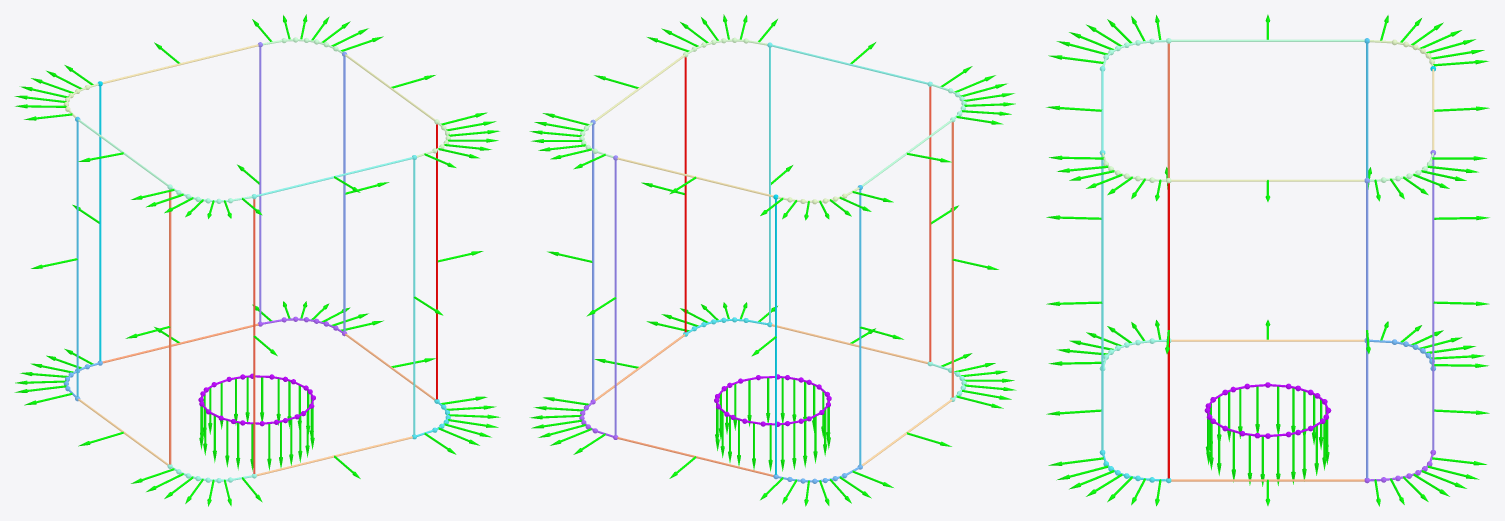
Rendered from onshape_simple_shape.gltf.
3 renders of one model, left to right at view 1: azimuth 30°, elevation 25°; view 2: azimuth 150°, elevation 25°; view 3: azimuth 270°, elevation 25°, orthographic. The views are drawn at different scales.
Bounding box in the file's own units: 0.7772 × 0.6878 × 0.7771.
